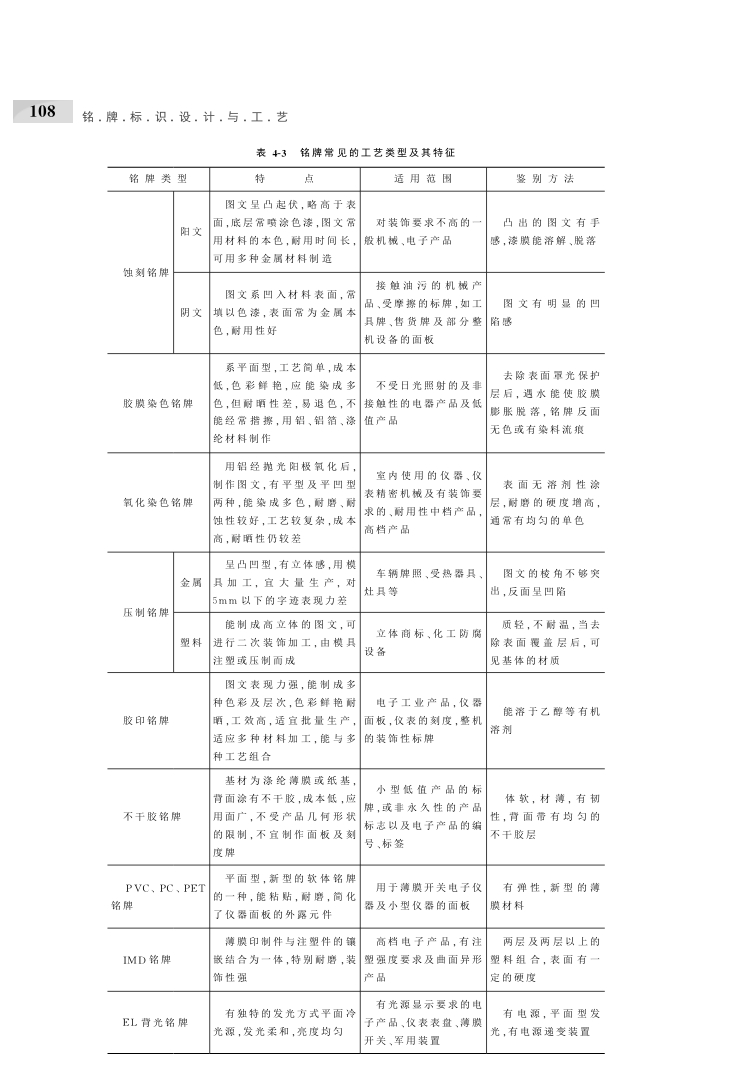table: (107, 165, 604, 1054)
